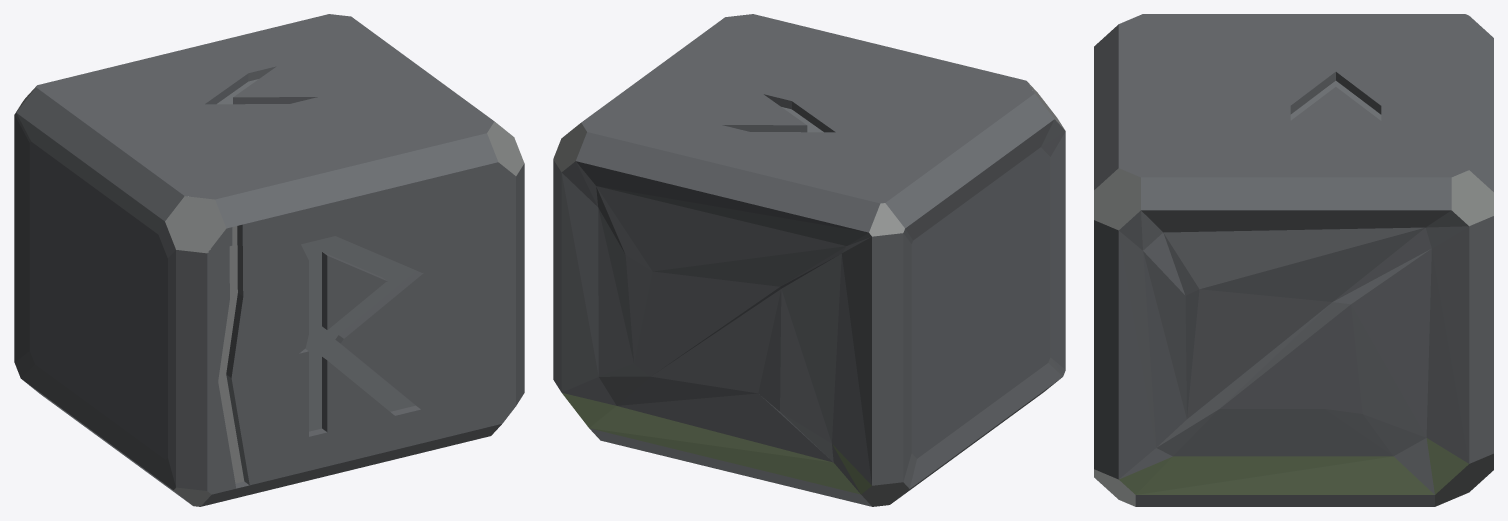
Rendered from glowing-rune-stone-5a5558.glb.
3 views of the same model, side by side, from view 1: azimuth 30°, elevation 25°; view 2: azimuth 150°, elevation 25°; view 3: azimuth 270°, elevation 25° (orthographic). The views are drawn at different scales.
Parts seen in each view (by area): view 1: stone; view 2: stone; view 3: stone.
Boxes of the visible parts, x1,y1,x2,y2 form: stone: (14,14,524,506); stone: (553,14,1065,506); stone: (1094,14,1493,506).
Bounding box in the file's own units: 0.6 × 0.5 × 0.55.
